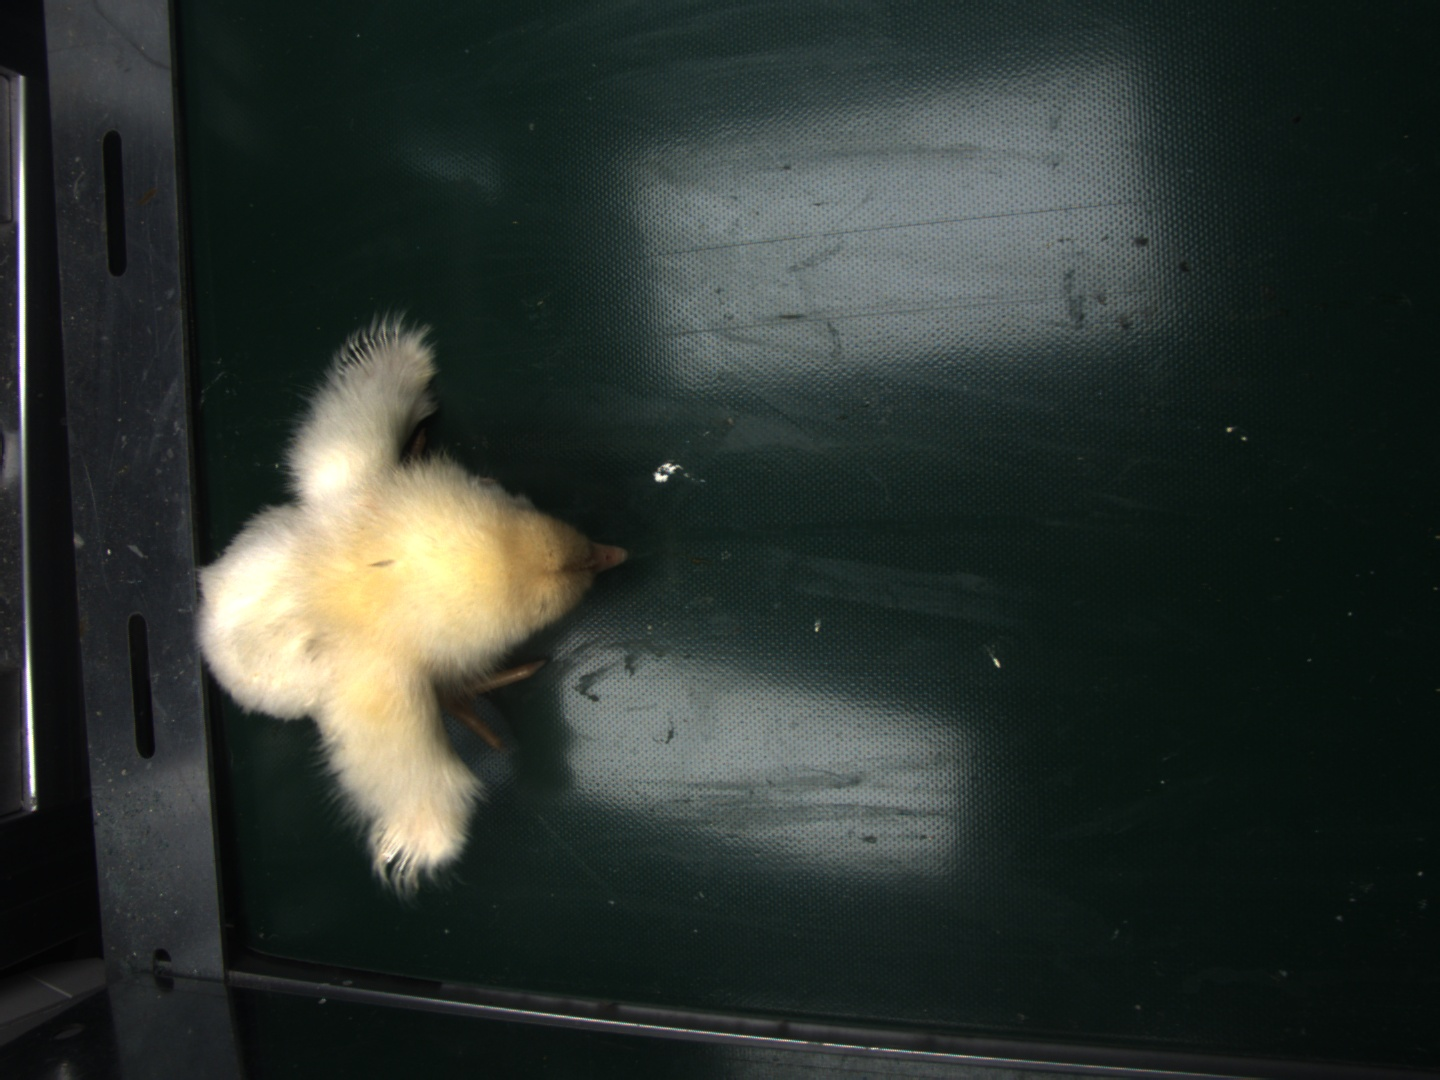male: (340, 330, 399, 378)
